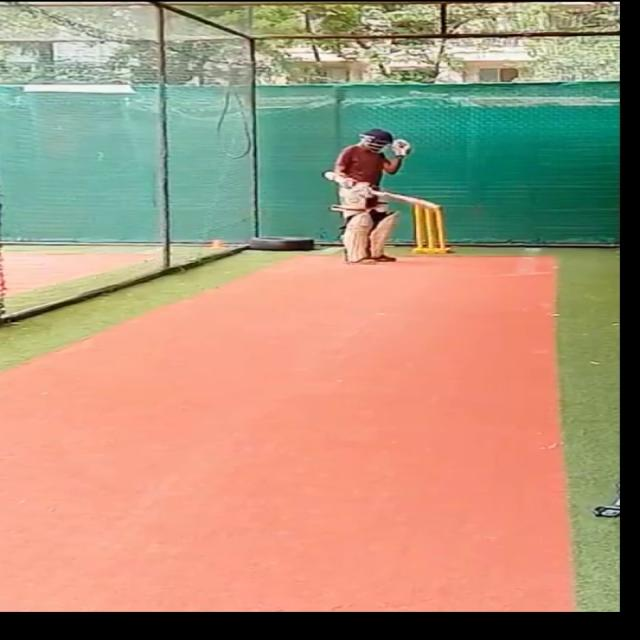stump: (414, 205, 452, 253)
